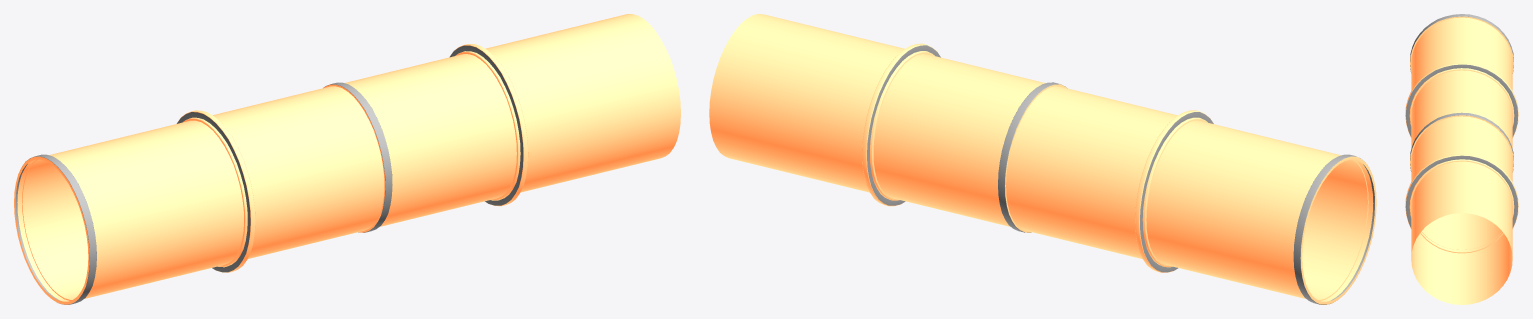
The model's file is SM_BigPipe.fbx.
The picture shows the model from 3 angles, left to right: view 1: azimuth 30°, elevation 25°; view 2: azimuth 150°, elevation 25°; view 3: azimuth 270°, elevation 25°; orthographic projection. The views are drawn at different scales.
Visible parts, largest first — view 1: SM_BigPipe_LOD0; view 2: SM_BigPipe_LOD0; view 3: SM_BigPipe_LOD0.
Part boxes in pixels (x1,y1,x2,y2): SM_BigPipe_LOD0: (14,14,680,304); SM_BigPipe_LOD0: (709,14,1376,304); SM_BigPipe_LOD0: (1405,14,1518,304).
Size of the model in its own units: 1461 by 353 by 353.
